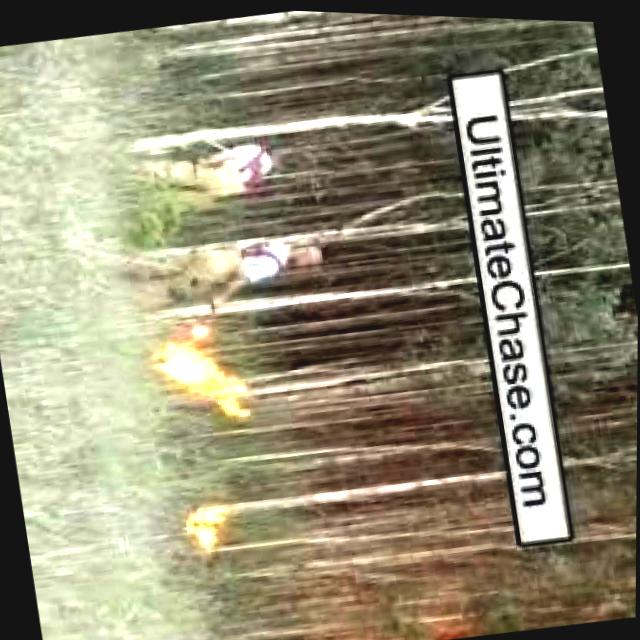Fire: (154, 319, 251, 420), (172, 497, 227, 558)
